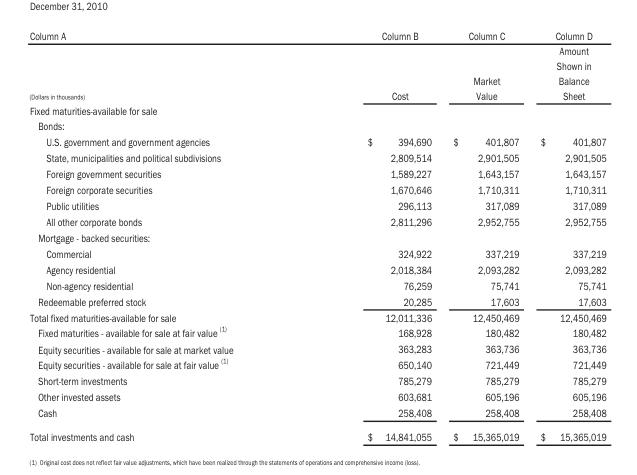table: (28, 28, 605, 443)
table column: (28, 28, 299, 443), (299, 28, 441, 443), (441, 28, 529, 443), (529, 28, 605, 443)
table column header: (28, 28, 605, 102)
table projected row header: (28, 102, 605, 118), (28, 229, 605, 245), (28, 118, 605, 133)
table row: (28, 28, 605, 102), (28, 404, 605, 424), (28, 424, 605, 443), (28, 324, 605, 341), (28, 355, 605, 372), (28, 102, 605, 118), (28, 133, 605, 149), (28, 149, 605, 165), (28, 165, 605, 181), (28, 181, 605, 197), (28, 197, 605, 213), (28, 213, 605, 229), (28, 229, 605, 245), (28, 245, 605, 261), (28, 261, 605, 277), (28, 277, 605, 293), (28, 293, 605, 309), (28, 372, 605, 388), (28, 388, 605, 404), (28, 118, 605, 133), (28, 309, 605, 324), (28, 341, 605, 355)
